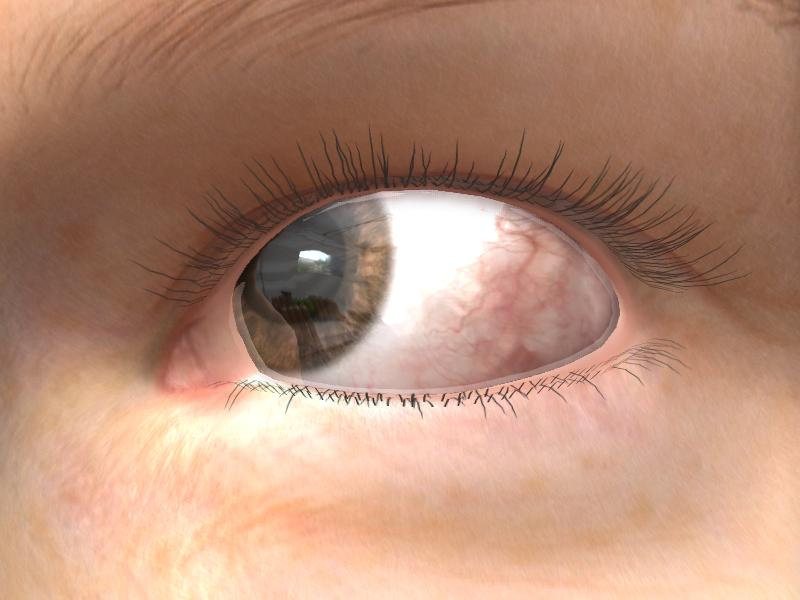eye: (233, 197, 395, 372)
